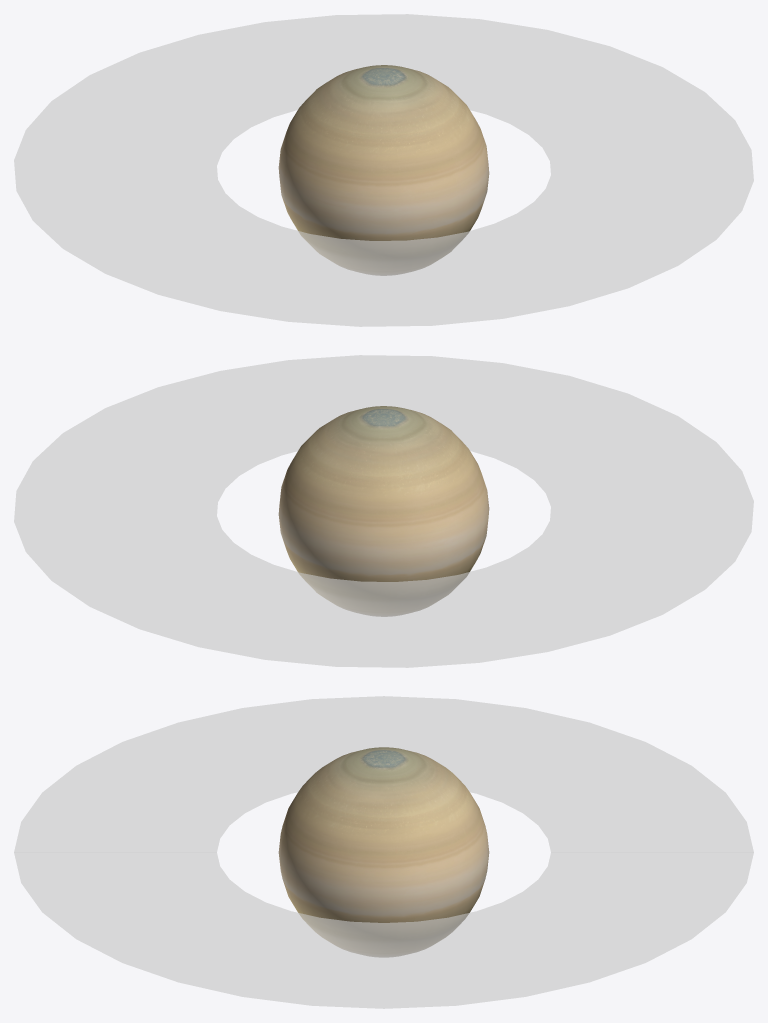
The model's file is saturn.glb.
3 renders of one model, top to bottom at view 1: azimuth 30°, elevation 25°; view 2: azimuth 150°, elevation 25°; view 3: azimuth 270°, elevation 25°, orthographic.
Parts seen in each view (by area): view 1: Sphere; view 2: Sphere; view 3: Sphere.
Boxes of the visible parts, x1,y1,x2,y2 form: Sphere: (14, 14, 753, 326); Sphere: (14, 355, 753, 667); Sphere: (14, 696, 753, 1008).
Bounding box in the file's own units: 7.03 × 2 × 7.03.
Materials: 2 (1 with a texture image).
